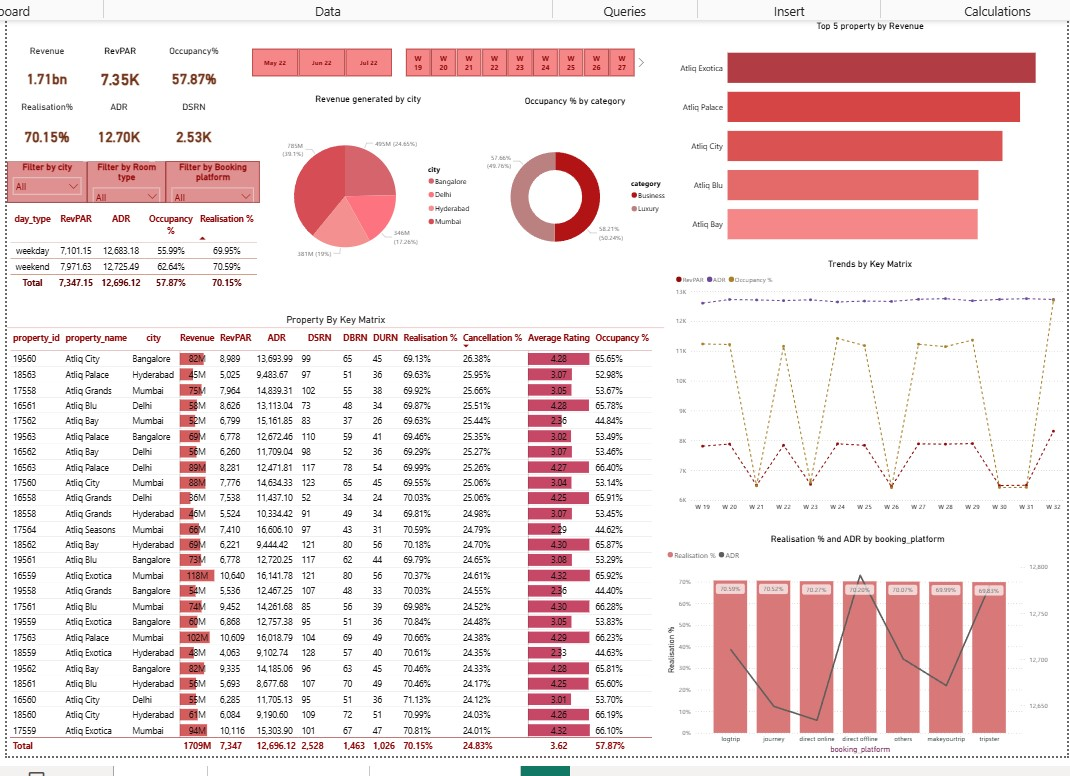

The dashboard page shown, as its layout file describes it:
{"tool":"powerbi","page":{"name":"Page 1","canvas":[1988,1380],"ordinal":0},"visuals":[{"type":"tableEx","title":"Property By Key Matrix","fields":{"Values":["dim_hotels.property_id","dim_hotels.property_name","dim_hotels.city","key_measures.Revenue","key_measures.RevPAR","key_measures.ADR","key_measures.DSRN","key_measures.DBRN","key_measures.DURN","key_measures.Realisation %","key_measures.Cancellation %","key_measures.Average Rating"]},"box":[0,550.8,1232.8,829.7],"z":0},{"type":"slicer","title":"Filter by  city","fields":{"Values":["dim_hotels.city"]},"box":[0,264.8,150,77.3],"z":1000},{"type":"slicer","title":"Filter by Room type","fields":{"Values":["dim_rooms.room_class"]},"box":[150,264.8,147.7,77.3],"z":2000},{"type":"slicer","fields":{"Values":["dim_date.mmm yy"]},"box":[433.6,46.9,311.7,65.6],"z":3000},{"type":"slicer","fields":{"Values":["dim_date.week no"]},"box":[721.9,46.9,478.1,65.6],"z":4000},{"type":"card","title":"Revenue","fields":{"Values":["key_measures.Revenue"]},"box":[0,46.9,150,105.5],"z":5000},{"type":"donutChart","fields":{"Category":["dim_hotels.category"],"Y":["key_measures.Occupancy %"]},"box":[881.3,140.6,368,363.3],"z":6000},{"type":"card","title":"RevPAR","fields":{"Values":["key_measures.RevPAR"]},"box":[147.7,46.9,128.9,105.5],"z":7000},{"type":"card","title":"Realisation%","fields":{"Values":["key_measures.Realisation %"]},"box":[0,152.3,150,112.5],"z":8000},{"type":"card","title":"ADR","fields":{"Values":["key_measures.ADR"]},"box":[143,152.3,133.6,112.5],"z":9000},{"type":"card","title":"Occupancy%","fields":{"Values":["key_measures.Occupancy %"]},"box":[267.2,46.9,166.4,105.5],"z":10000},{"type":"card","title":"DSRN","fields":{"Values":["key_measures.DSRN"]},"box":[267.2,152.3,166.4,112.5],"z":11000},{"type":"lineStackedColumnComboChart","fields":{"Category":["fact_bookings.booking_platform"],"Y":["key_measures.Realisation %"],"Y2":["key_measures.ADR"]},"box":[1232.8,963.3,724.2,417.2],"z":12000},{"type":"tableEx","title":"% value in bottom are week on week change","fields":{"Values":["dim_date.day_type","key_measures.RevPAR","key_measures.ADR","key_measures.Occupancy %","key_measures.Realisation %"]},"box":[0,363.3,473.4,187.5],"z":13000},{"type":"lineChart","title":"Trends by Key Matrix","fields":{"Category":["dim_date.date.Variation.Date Hierarchy.Month","dim_date.week no"],"Y":["key_measures.RevPAR","key_measures.ADR"],"Y2":["key_measures.Occupancy %"]},"box":[1249.2,447.7,738.3,482.8],"z":14000},{"type":"pieChart","title":"Revenue generated by city","fields":{"Series":["dim_hotels.city"],"Y":["Sum(fact_bookings.revenue_generated)"]},"box":[473.4,138.3,407.8,365.6],"z":15000},{"type":"barChart","title":"Top 5 property by Revenue","fields":{"Category":["dim_hotels.property_name"],"Y":["key_measures.Revenue"]},"box":[1249.2,0,738.3,447.7],"z":16000},{"type":"slicer","title":"Filter by Booking platform","fields":{"Values":["fact_bookings.booking_platform"]},"box":[297.7,264.8,175.8,77.3],"z":17000}]}

Visuals, with their boxes on the page's 1988x1380 design canvas (x1, y1, x2, y2). These are canvas units, not pixel positions in the 1070x776 screenshot, which may show the page scaled, cropped or inside an application window:
"Property By Key Matrix" tableEx: x1=0, y1=551, x2=1233, y2=1380
"Filter by  city" slicer: x1=0, y1=265, x2=150, y2=342
"Filter by Room type" slicer: x1=150, y1=265, x2=298, y2=342
slicer - dim_date.mmm yy: x1=434, y1=47, x2=745, y2=112
slicer - dim_date.week no: x1=722, y1=47, x2=1200, y2=112
"Revenue" card: x1=0, y1=47, x2=150, y2=152
donutChart - dim_hotels.category x key_measures.Occupancy %: x1=881, y1=141, x2=1249, y2=504
"RevPAR" card: x1=148, y1=47, x2=277, y2=152
"Realisation%" card: x1=0, y1=152, x2=150, y2=265
"ADR" card: x1=143, y1=152, x2=277, y2=265
"Occupancy%" card: x1=267, y1=47, x2=434, y2=152
"DSRN" card: x1=267, y1=152, x2=434, y2=265
lineStackedColumnComboChart - fact_bookings.booking_platform x key_measures.Realisation %: x1=1233, y1=963, x2=1957, y2=1380
"% value in bottom are week on week change" tableEx: x1=0, y1=363, x2=473, y2=551
"Trends by Key Matrix" lineChart: x1=1249, y1=448, x2=1988, y2=930
"Revenue generated by city" pieChart: x1=473, y1=138, x2=881, y2=504
"Top 5 property by Revenue" barChart: x1=1249, y1=0, x2=1988, y2=448
"Filter by Booking platform" slicer: x1=298, y1=265, x2=474, y2=342
